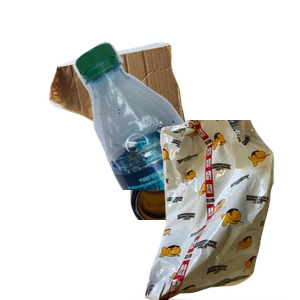cardboard: (46, 40, 226, 179)
glass: (115, 120, 300, 300)
plastic: (71, 39, 300, 219)
trash: (127, 120, 300, 300)
